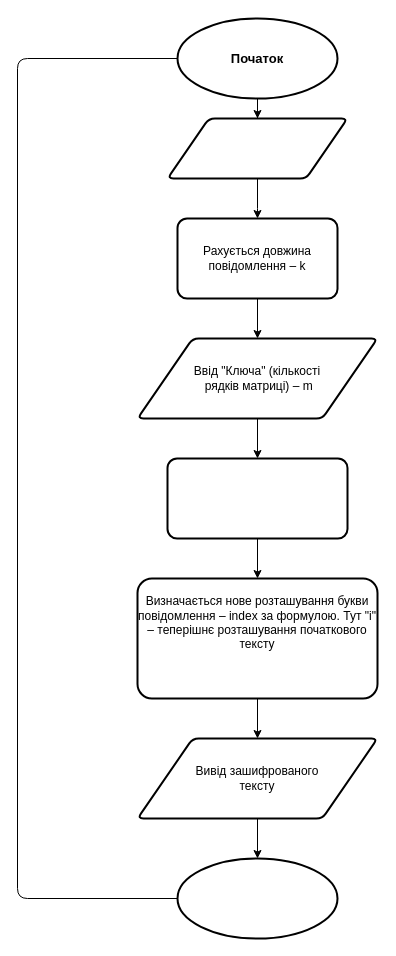
Some shapes in this 396 by 956 pixel diagram are drawn without their labels. The box of each missing label's shape, as (x1, y1, x2, y2) in pixels:
Ввід тексту для шифрування: (166, 117, 348, 179)
Вираховується к-сть стовпців n за формулою |(k-1) div n| + 1: (166, 457, 348, 539)
Кінець: (176, 857, 338, 939)
